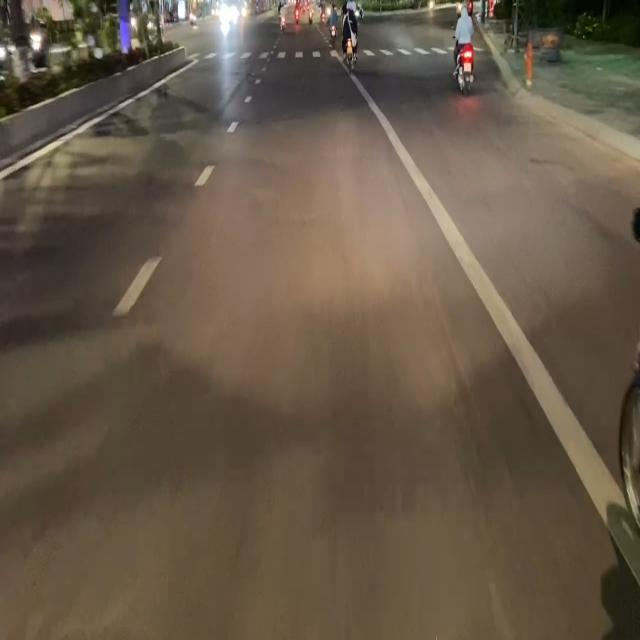walk-crossing: (185, 44, 490, 64)
